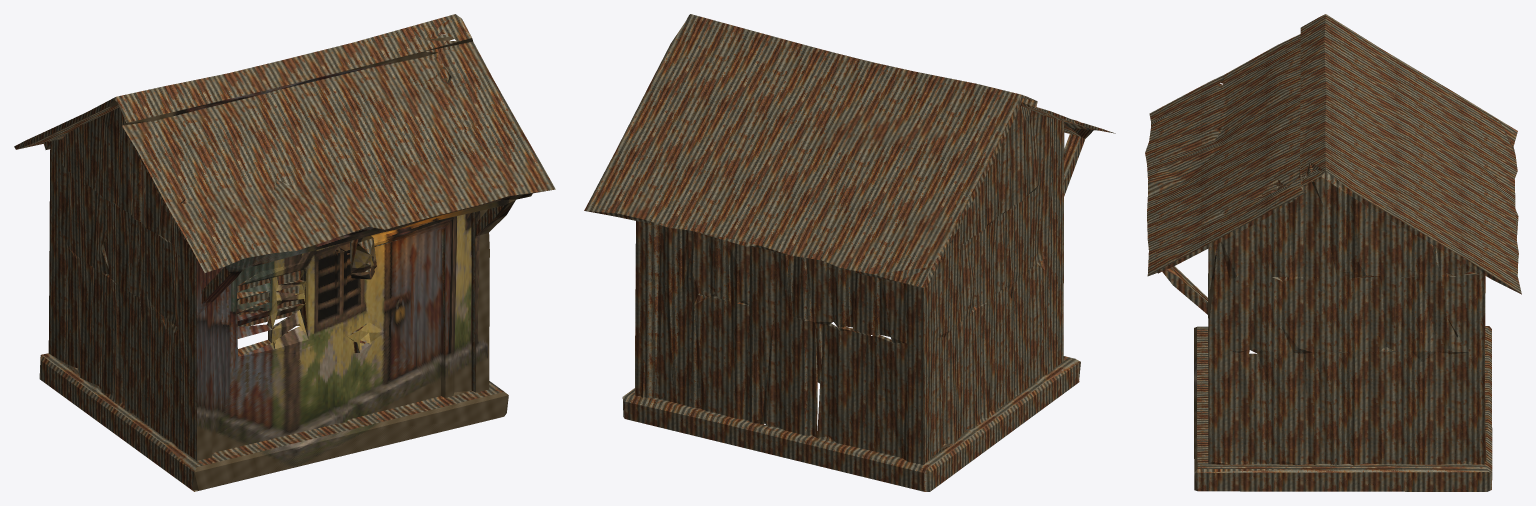
File: shed_tin_reduced.glb
3 renders of one model, left to right at view 1: azimuth 30°, elevation 25°; view 2: azimuth 150°, elevation 25°; view 3: azimuth 270°, elevation 25°, orthographic. The views are drawn at different scales.
Visible parts, largest first — view 1: TinWallsRoofAndBase, FrontDoorAndWindow; view 2: TinWallsRoofAndBase; view 3: TinWallsRoofAndBase, FrontDoorAndWindow.
Boxes of the visible parts, x1=… form: TinWallsRoofAndBase: x1=14, y1=14, x2=555, y2=491; FrontDoorAndWindow: x1=108, y1=36, x2=551, y2=491; TinWallsRoofAndBase: x1=584, y1=14, x2=1115, y2=491; TinWallsRoofAndBase: x1=1145, y1=14, x2=1521, y2=491; FrontDoorAndWindow: x1=1194, y1=163, x2=1322, y2=491.
Bounding box in the file's own units: 1.97 × 1.86 × 1.94.
2 materials, 2 textured.
